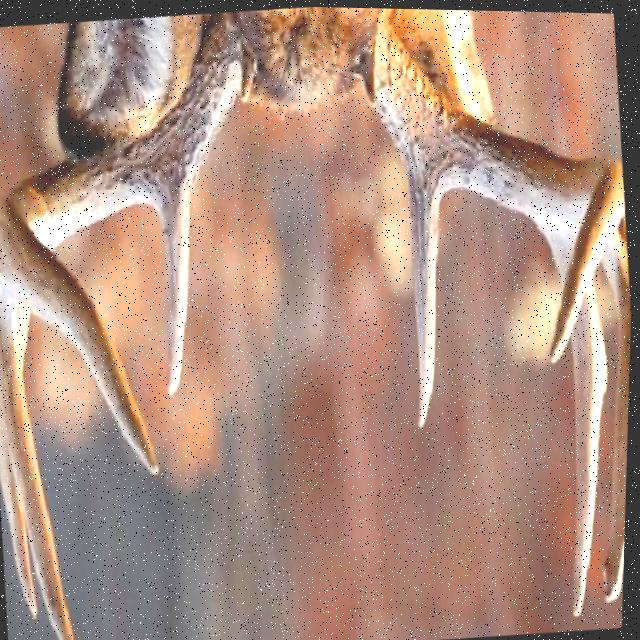L-F: (0, 12, 241, 479)
L-G1: (156, 181, 195, 396)
L-G3: (0, 295, 78, 640)
R-F: (370, 24, 626, 366)
R-G1: (407, 160, 443, 426)
R-G3: (602, 210, 633, 603)
